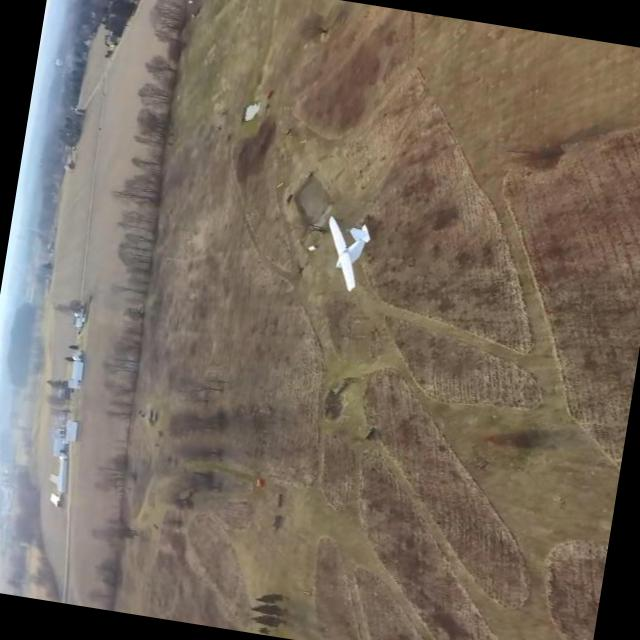UAV: (282, 186, 404, 284)
